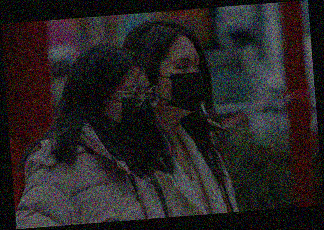with_mask: (102, 83, 156, 142), (158, 56, 204, 115)
